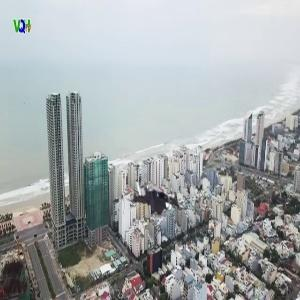drone: (122, 166, 192, 236)
